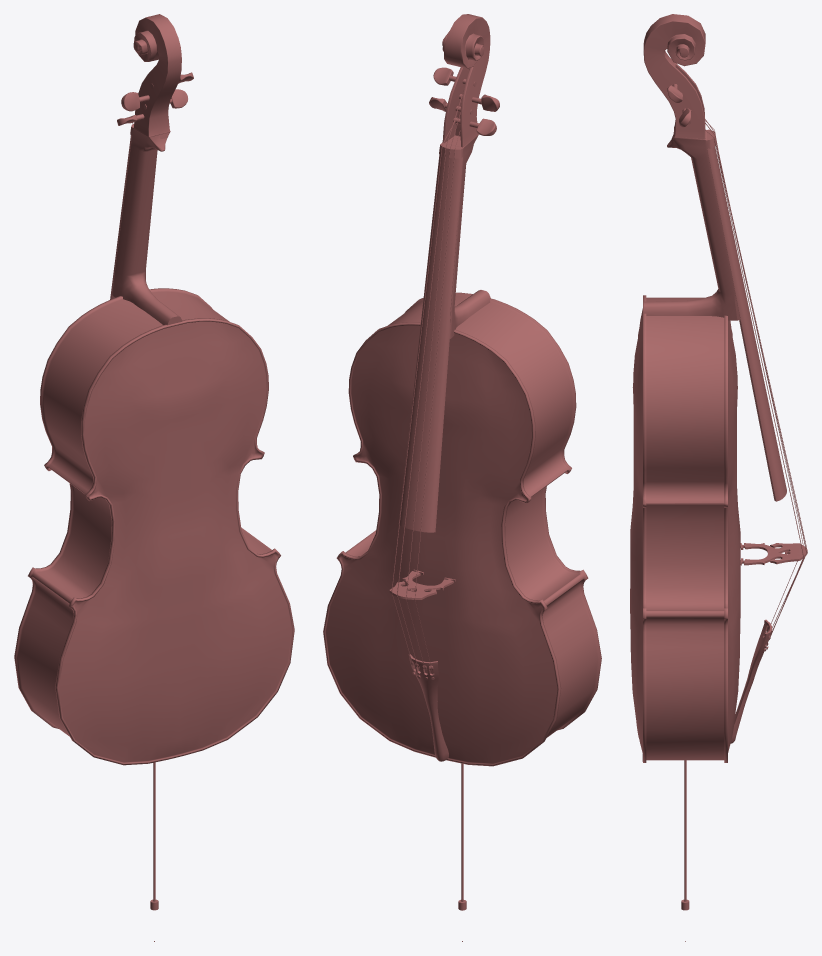
Rendered from Cello.fbx.
3 renders of one model, left to right at view 1: azimuth 30°, elevation 25°; view 2: azimuth 150°, elevation 25°; view 3: azimuth 270°, elevation 25°, orthographic.
Parts seen in each view (by area): view 1: polySurface2; view 2: polySurface2; view 3: polySurface2.
Part boxes in pixels (box(x1,y1,x2,y2)): polySurface2: box(14, 14, 294, 941); polySurface2: box(323, 14, 601, 941); polySurface2: box(630, 14, 807, 941).
Bounding box in the file's own units: 750 × 2793 × 487.
